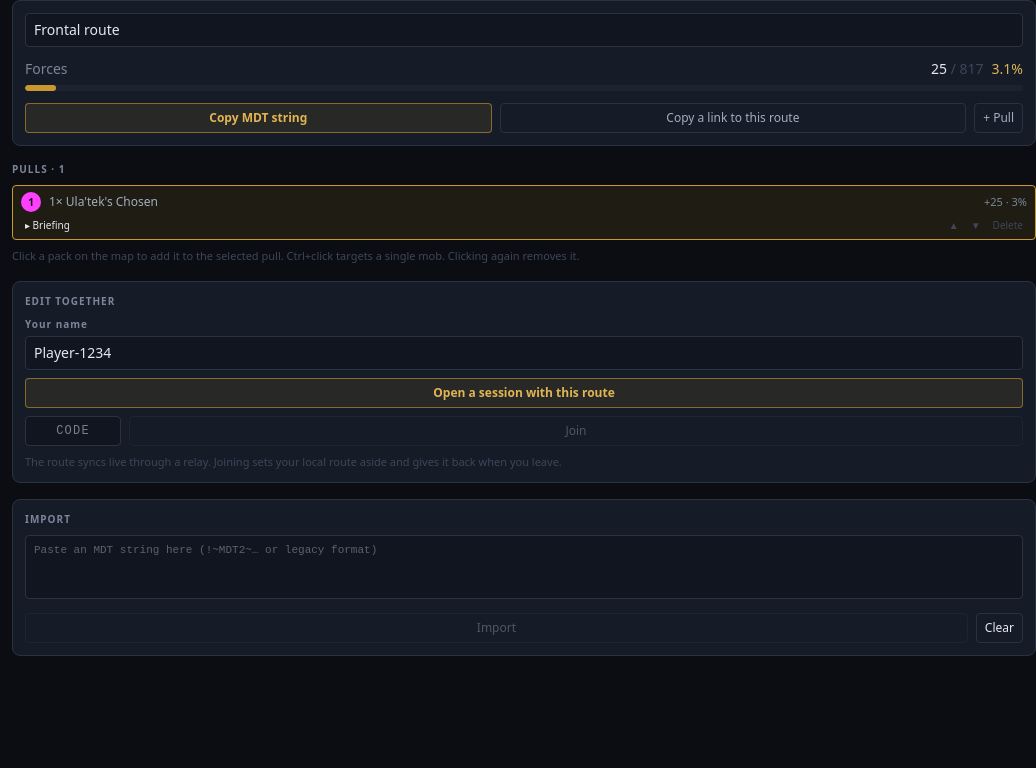
Test: Pull briefing › names the frontals of a pull
Click the button "▸ Briefing".
click(47, 226)  # box left=21, top=218, right=74, bottom=233
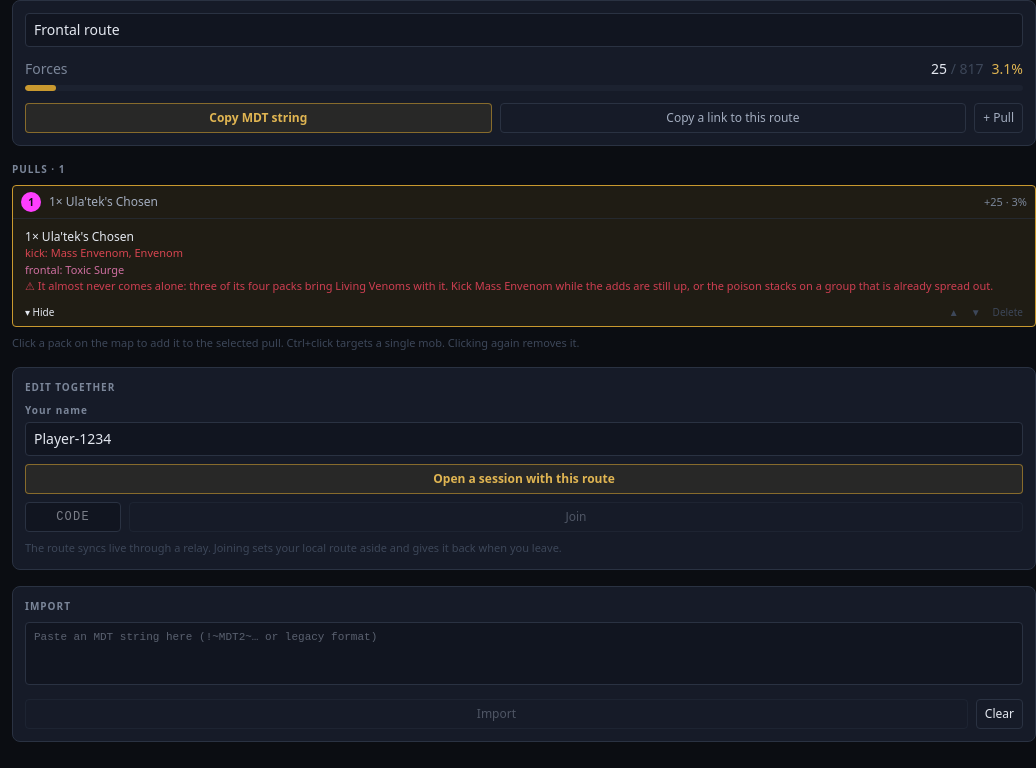
Expected: the text "frontal: Toxic Surge" is shown, left=25, top=262, right=124, bottom=276
